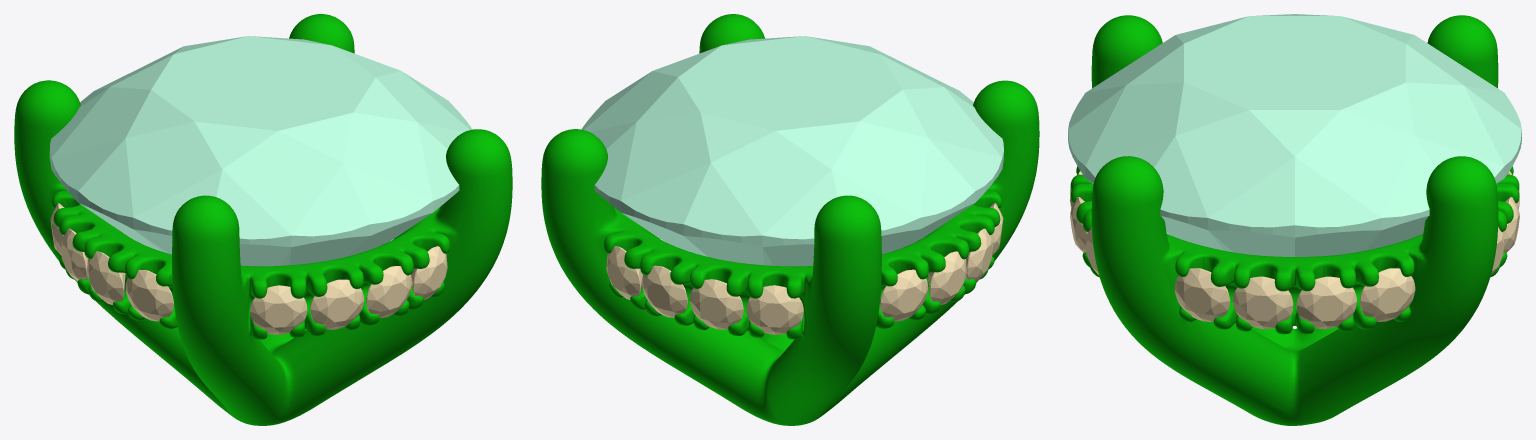
3 views of the same model, side by side, from view 1: azimuth 30°, elevation 25°; view 2: azimuth 150°, elevation 25°; view 3: azimuth 270°, elevation 25° (orthographic). The views are drawn at different scales.
Parts seen in each view (by area): view 1: CS_Diamond, Metal01, Diamond_Round, Diamond_Round.001, Diamond_Round.012, Diamond_Round.002, Diamond_Round.013, Diamond_Round.003, Diamond_Round.014; view 2: CS_Diamond, Metal01, Diamond_Round.008, Diamond_Round.009, Diamond_Round.015, Diamond_Round.010, Diamond_Round.014, Diamond_Round.011, Diamond_Round.013; view 3: CS_Diamond, Metal01, Diamond_Round.005, Diamond_Round.006, Diamond_Round.004, Diamond_Round.007, Diamond_Round.010, Diamond_Round.002.
Boxes of the visible parts, x1,y1,x2,y2 form: CS_Diamond: [49, 36, 472, 266]; Metal01: [14, 14, 512, 425]; Diamond_Round: [250, 285, 307, 334]; Diamond_Round.001: [310, 279, 363, 329]; Diamond_Round.012: [125, 270, 173, 321]; Diamond_Round.002: [366, 266, 411, 317]; Diamond_Round.013: [87, 251, 125, 304]; Diamond_Round.003: [410, 246, 447, 299]; Diamond_Round.014: [61, 228, 88, 281]; CS_Diamond: [581, 36, 1003, 266]; Metal01: [541, 14, 1039, 425]; Diamond_Round.008: [746, 285, 803, 334]; Diamond_Round.009: [689, 279, 743, 329]; Diamond_Round.015: [880, 269, 928, 321]; Diamond_Round.010: [642, 265, 687, 317]; Diamond_Round.014: [928, 251, 966, 304]; Diamond_Round.011: [606, 246, 643, 299]; Diamond_Round.013: [966, 228, 992, 281]; CS_Diamond: [1068, 14, 1521, 256]; Metal01: [1070, 15, 1519, 425]; Diamond_Round.005: [1296, 276, 1356, 329]; Diamond_Round.006: [1233, 276, 1293, 329]; Diamond_Round.004: [1359, 268, 1415, 321]; Diamond_Round.007: [1174, 268, 1230, 321]; Diamond_Round.010: [1502, 197, 1519, 252]; Diamond_Round.002: [1070, 197, 1087, 252].
Bounding box in the file's own units: 8.2 × 7.05 × 8.2.
